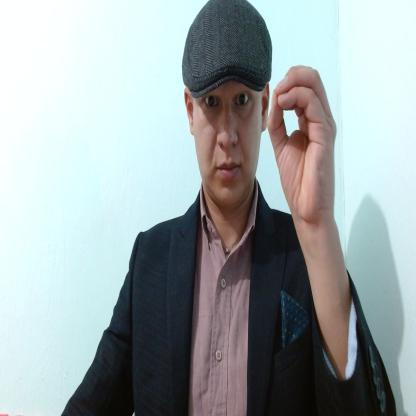O: (266, 64, 338, 228)
